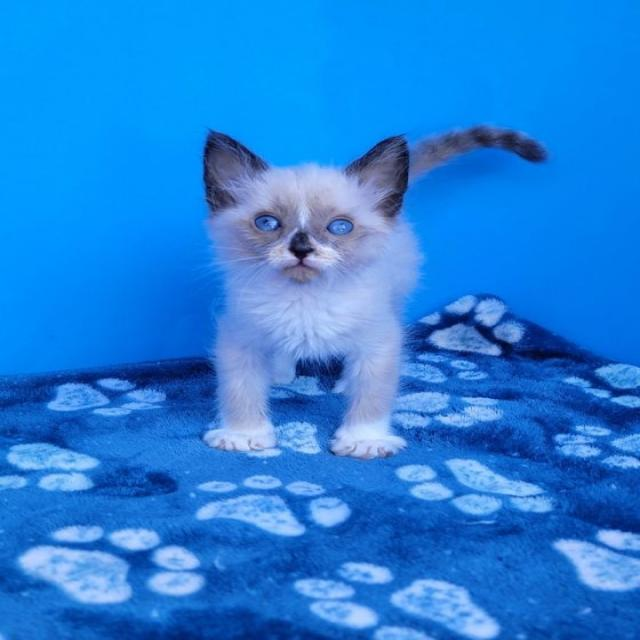siamese_cat: (189, 124, 432, 304)
